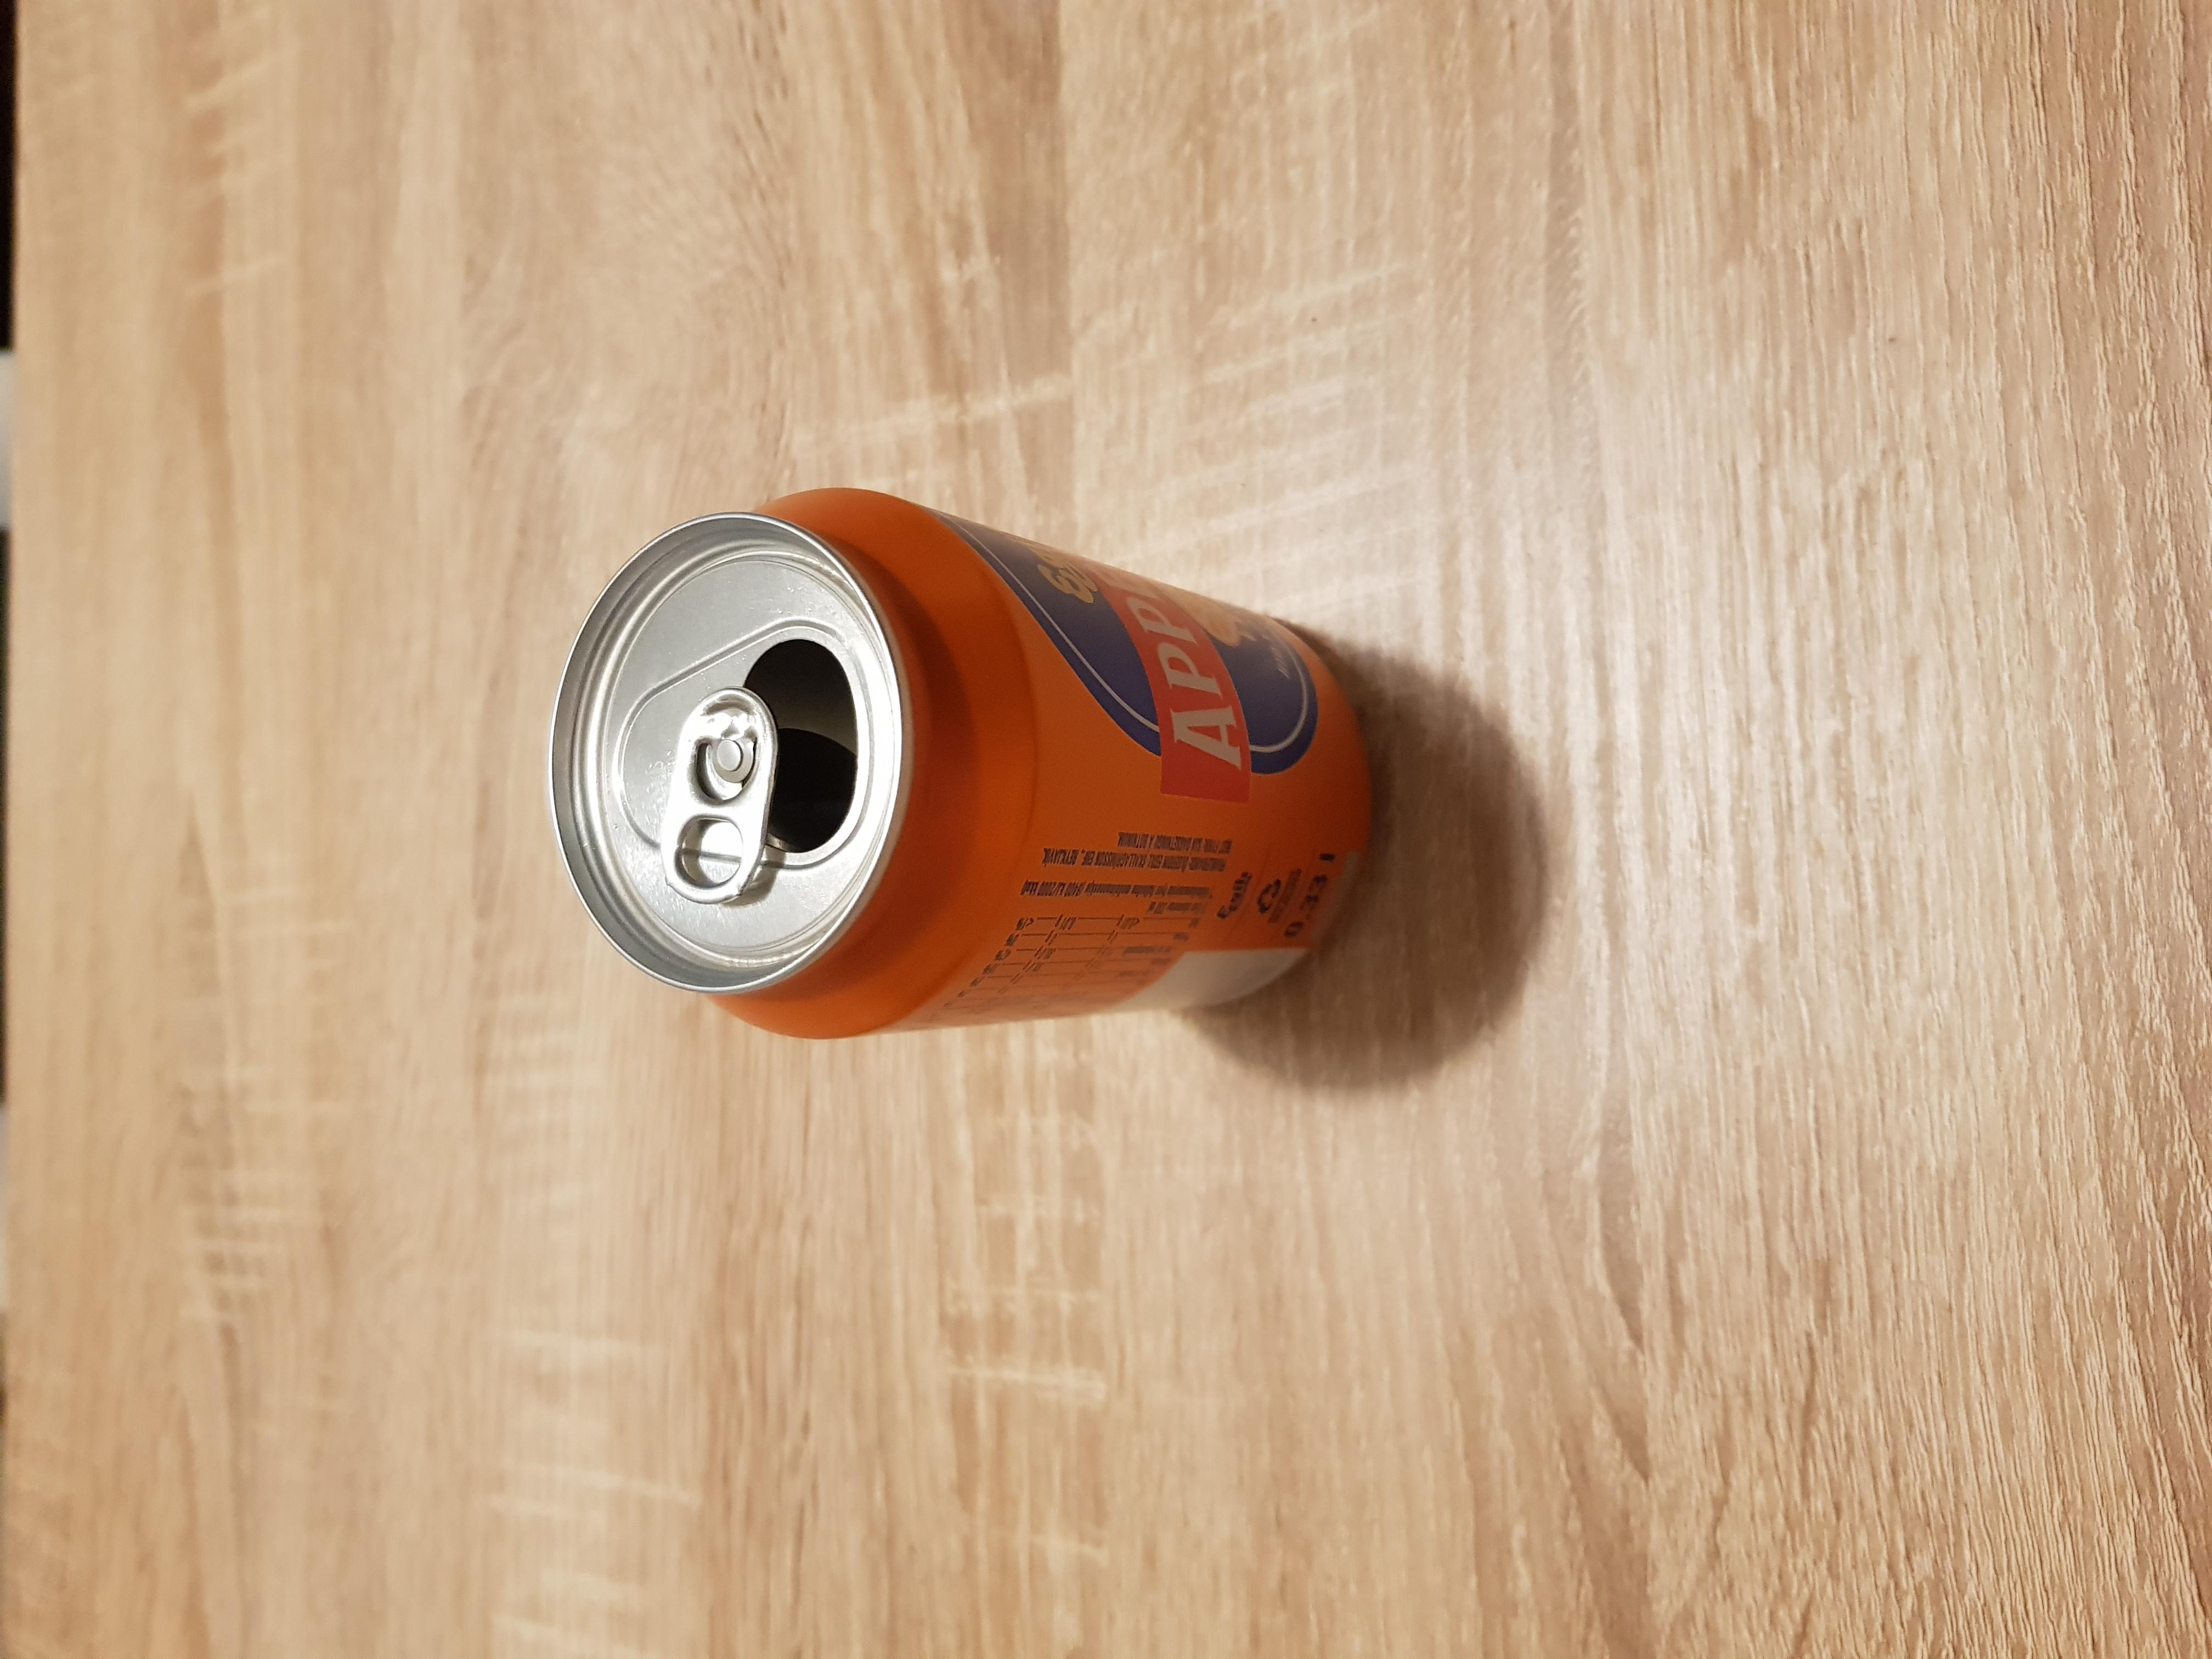can: (542, 479, 1350, 1049)
